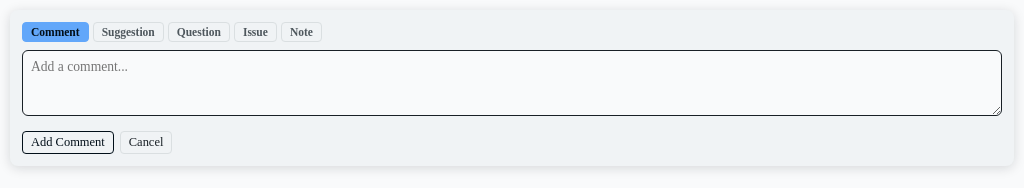
CommentForm › flips submit text to "Adding..." while in flight
Type "wait" into the text box with placeholder "Add a comment..." at point(512, 83), box [22,50,1002,116]
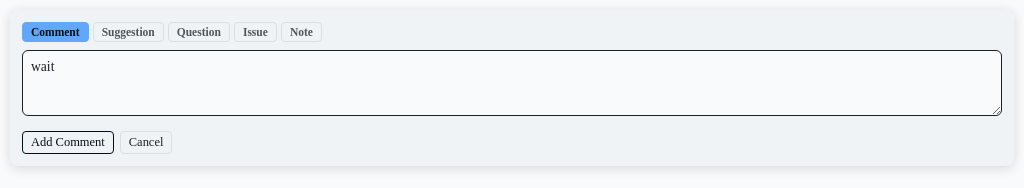
Click the button "Add Comment" at point(68, 142), box [22,131,114,154]
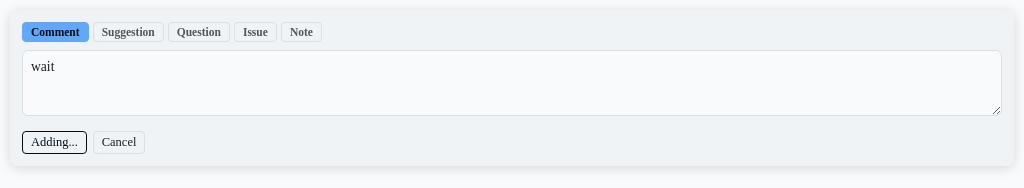
expect the button "Adding..." is disabled: met, box [22,131,87,154]
